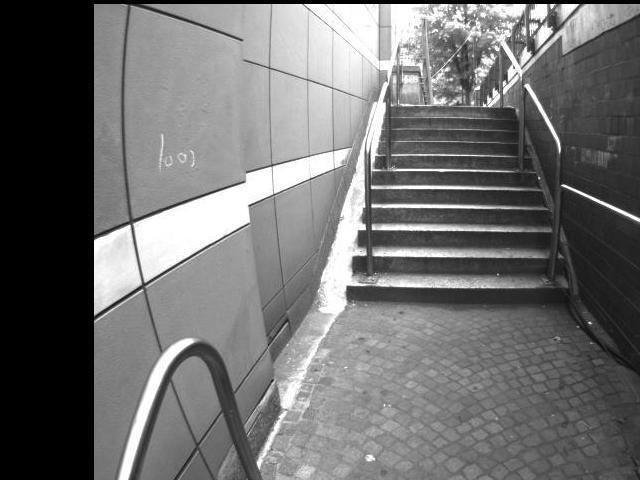Escaleras: (354, 101, 524, 323), (126, 456, 640, 480)
